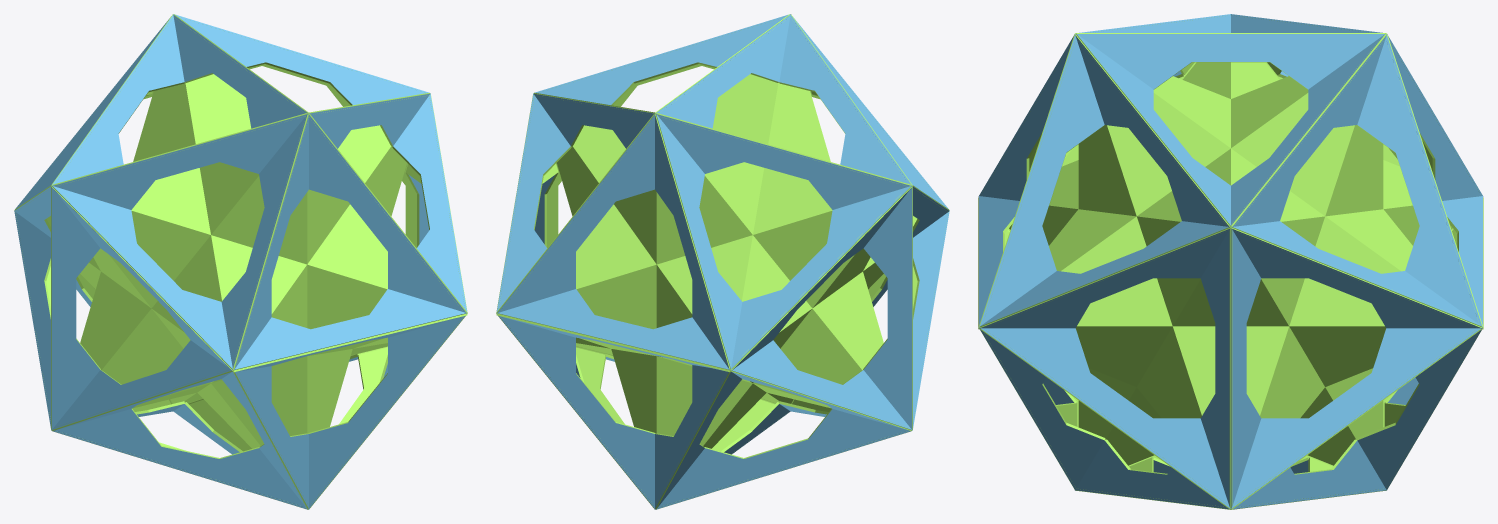
File: GreatDodecahedronS.glb
3 renders of one model, left to right at view 1: azimuth 30°, elevation 25°; view 2: azimuth 150°, elevation 25°; view 3: azimuth 270°, elevation 25°, orthographic. The views are drawn at different scales.
Parts seen in each view (by area): view 1: Mesh_0004_1, Mesh_1003, Mesh_0004; view 2: Mesh_0004_1, Mesh_1003, Mesh_0004; view 3: Mesh_0004_1, Mesh_1003, Mesh_0004.
Boxes of the visible parts, x1,y1,x2,y2 form: Mesh_0004_1: [14, 14, 467, 509]; Mesh_1003: [46, 74, 406, 448]; Mesh_0004: [14, 14, 467, 509]; Mesh_0004_1: [496, 14, 949, 509]; Mesh_1003: [557, 74, 917, 448]; Mesh_0004: [496, 14, 949, 509]; Mesh_0004_1: [978, 14, 1483, 509]; Mesh_1003: [1009, 62, 1452, 465]; Mesh_0004: [978, 16, 1483, 509].
Size of the model in its own units: 8.26 by 8.26 by 8.27.
